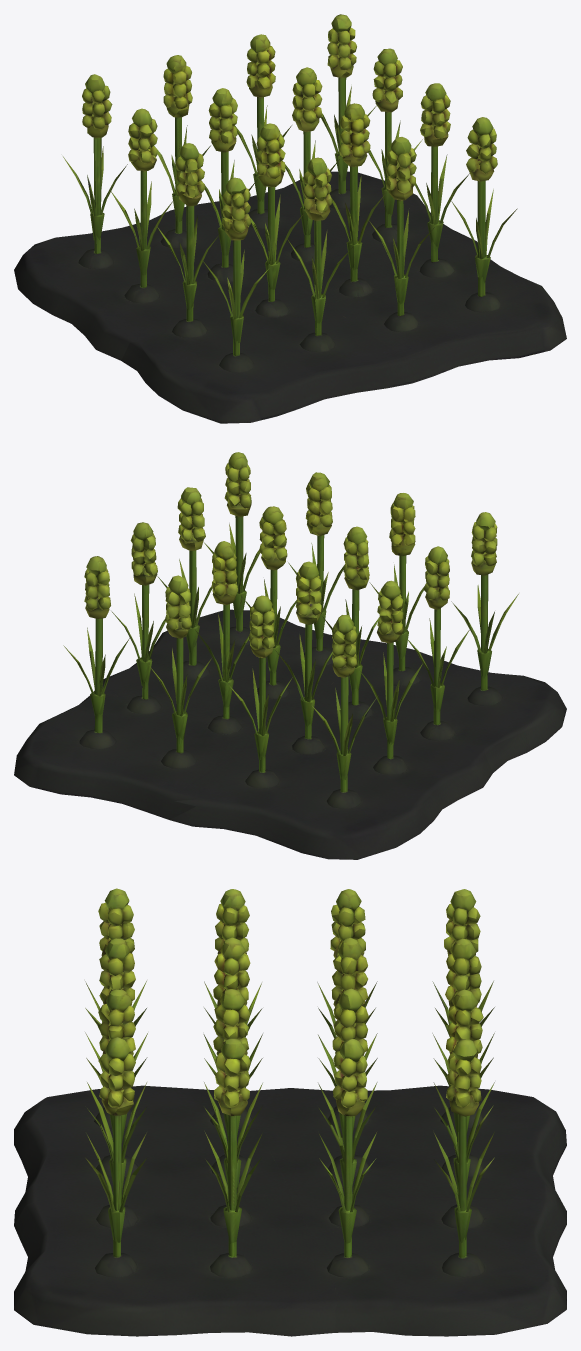
The model's file is golden_wheat_stage2.glb.
3 renders of one model, top to bottom at view 1: azimuth 30°, elevation 25°; view 2: azimuth 150°, elevation 25°; view 3: azimuth 270°, elevation 25°, orthographic. The views are drawn at different scales.
Parts seen in each view (by area): view 1: mesh_node; view 2: mesh_node; view 3: mesh_node.
Boxes of the visible parts, <box> form: mesh_node: <box>14,14,566,423</box>; mesh_node: <box>14,452,566,859</box>; mesh_node: <box>14,888,566,1336</box>.
Size of the model in its own units: 1 by 0.5156 by 1.
Materials: 1 (1 with a texture image).
